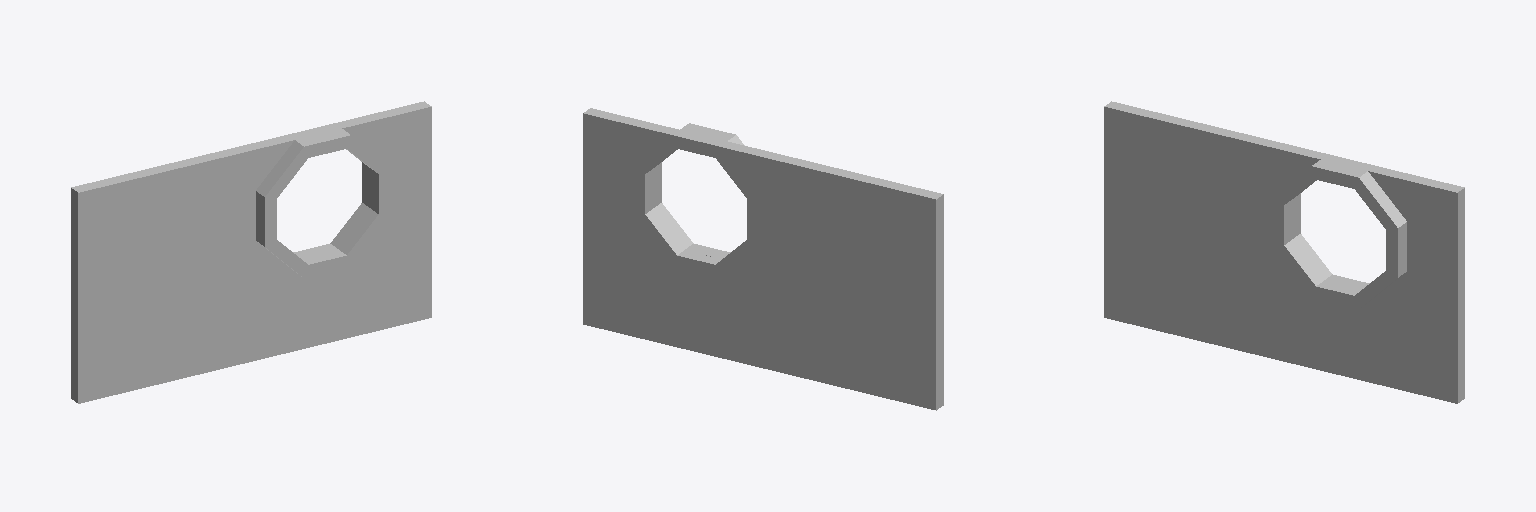
The model's file is door_outer_wall.obj.
3 renders of one model, left to right at view 1: azimuth 30°, elevation 25°; view 2: azimuth 150°, elevation 25°; view 3: azimuth 330°, elevation 25°, orthographic.
Parts seen in each view (by area): view 1: Cube.002_Cube, Cube.001_Cube.002; view 2: Cube.002_Cube, Cube.001_Cube.002; view 3: Cube.002_Cube, Cube.001_Cube.002.
Boxes of the visible parts, box(x1,y1,x2,y2) form: Cube.002_Cube: box(71, 101, 431, 403); Cube.001_Cube.002: box(256, 129, 390, 277); Cube.002_Cube: box(583, 108, 943, 410); Cube.001_Cube.002: box(653, 123, 744, 258); Cube.002_Cube: box(1104, 101, 1464, 403); Cube.001_Cube.002: box(1272, 160, 1406, 308).
Size of the model in its own units: 27.72 by 15.82 by 2.24.